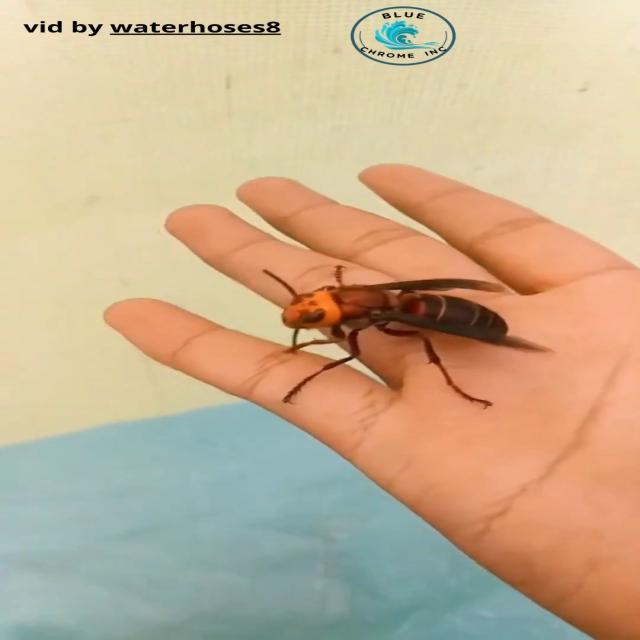Hornets: (260, 264, 554, 409)
